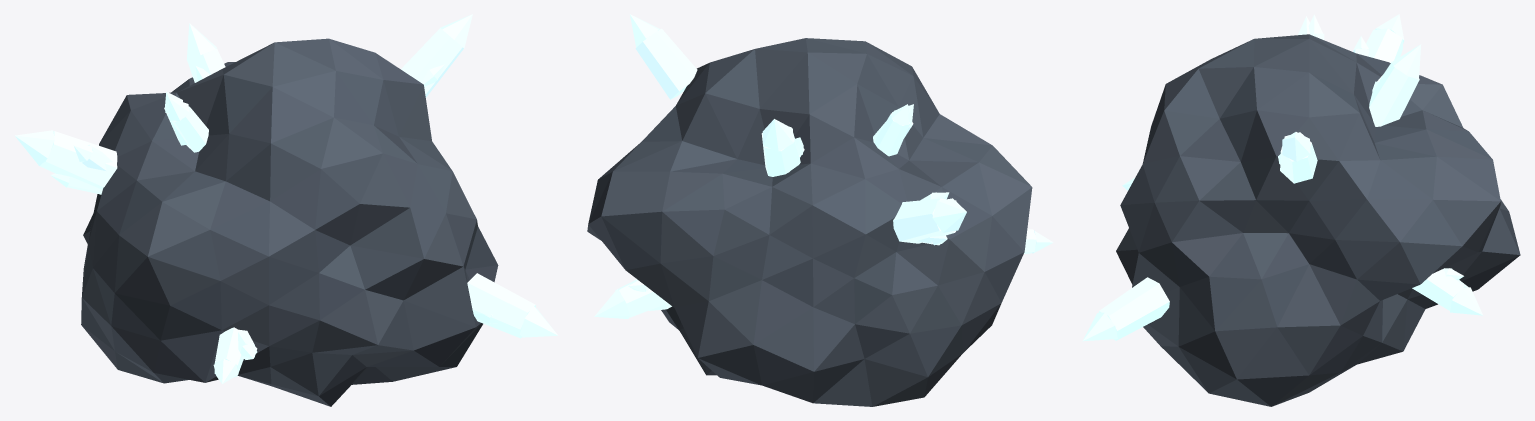
Rendered from deposit.glb.
3 views of the same model, side by side, from view 1: azimuth 30°, elevation 25°; view 2: azimuth 150°, elevation 25°; view 3: azimuth 270°, elevation 25° (orthographic). The views are drawn at different scales.
Visible parts, largest first — view 1: Rock, GlowCrystals; view 2: Rock, GlowCrystals; view 3: Rock, GlowCrystals.
Part boxes in pixels (x1,y1,x2,y2): Rock: (81,38,498,406); GlowCrystals: (15,14,557,383); Rock: (587,38,1032,406); GlowCrystals: (594,14,1053,318); Rock: (1116,34,1520,406); GlowCrystals: (1082,14,1482,341).
Bounding box in the file's own units: 3.52 × 2.88 × 3.55.
